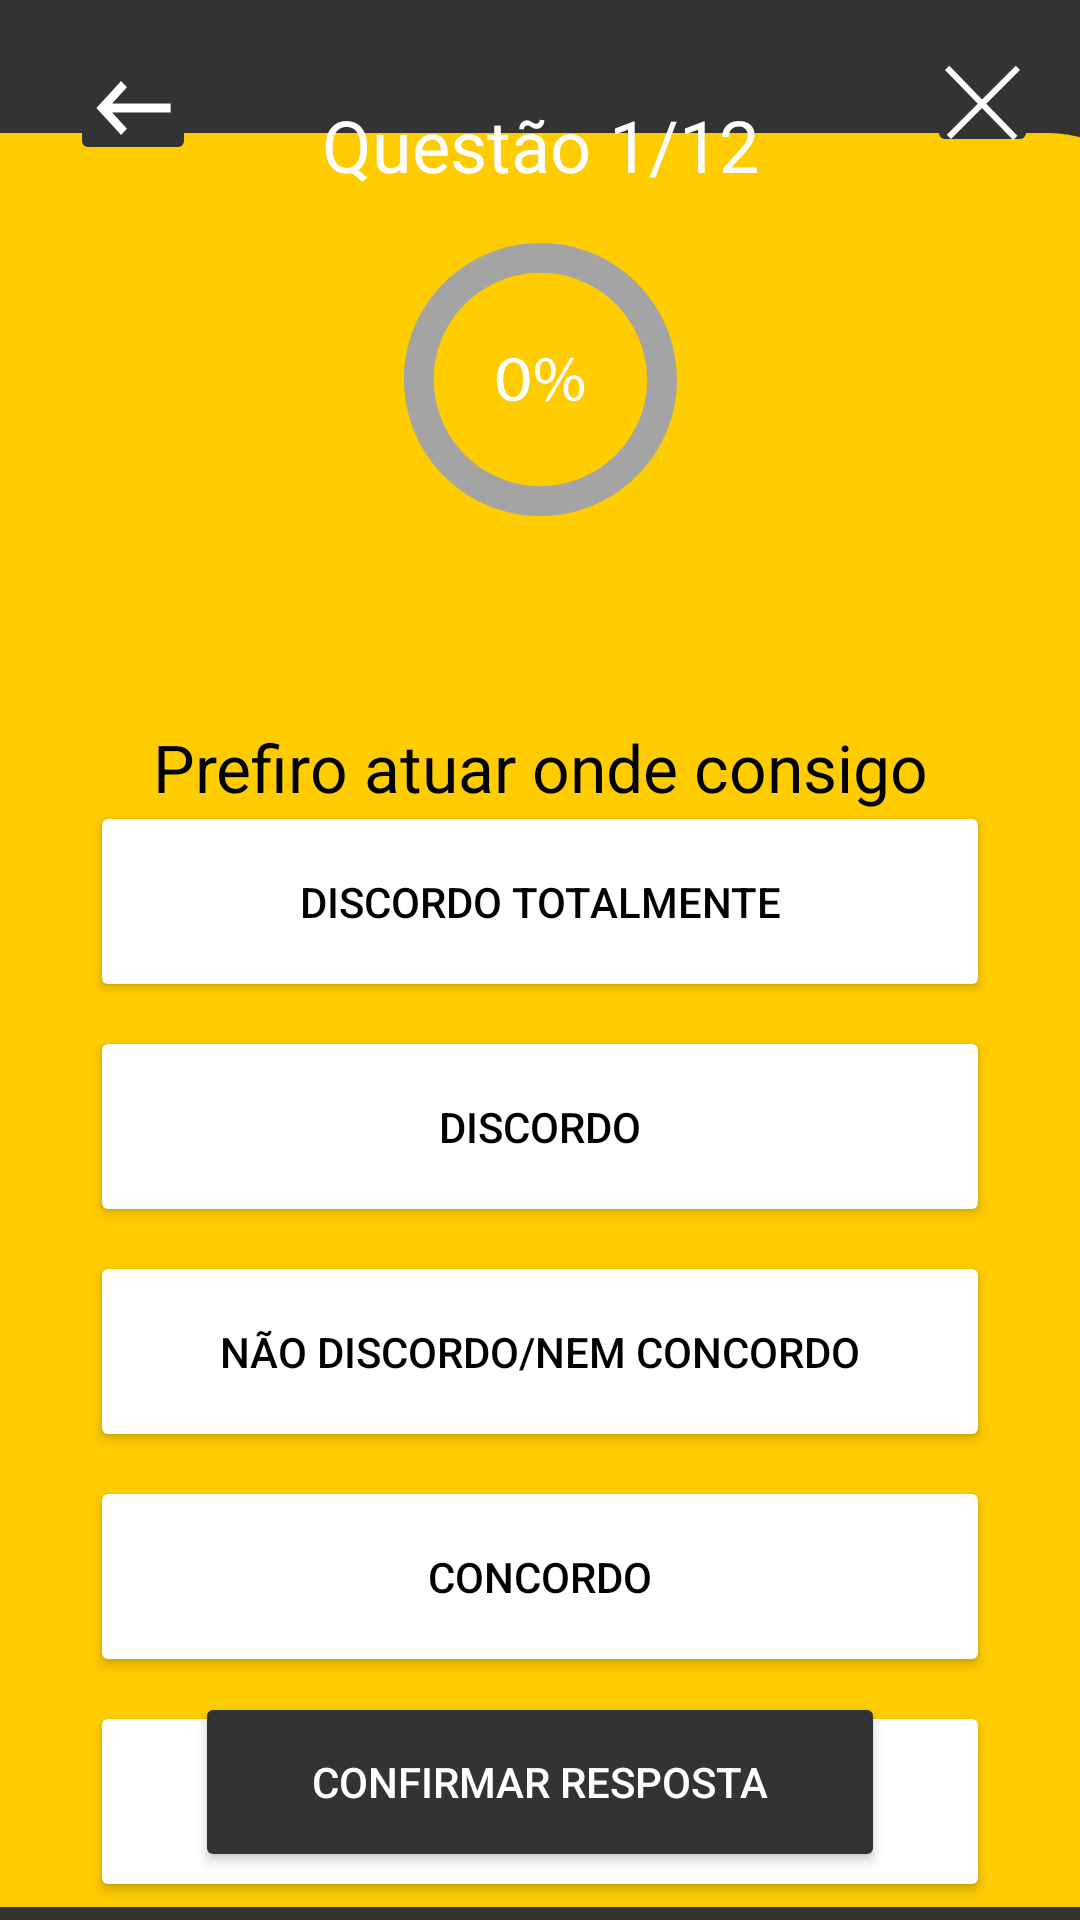

Point at icon controls on the screen. Image size 1080x1920, points as (x=x, y=y).
arrowback: (x=133, y=108)
exit: (x=982, y=111)
porcentagem: (x=540, y=379)
